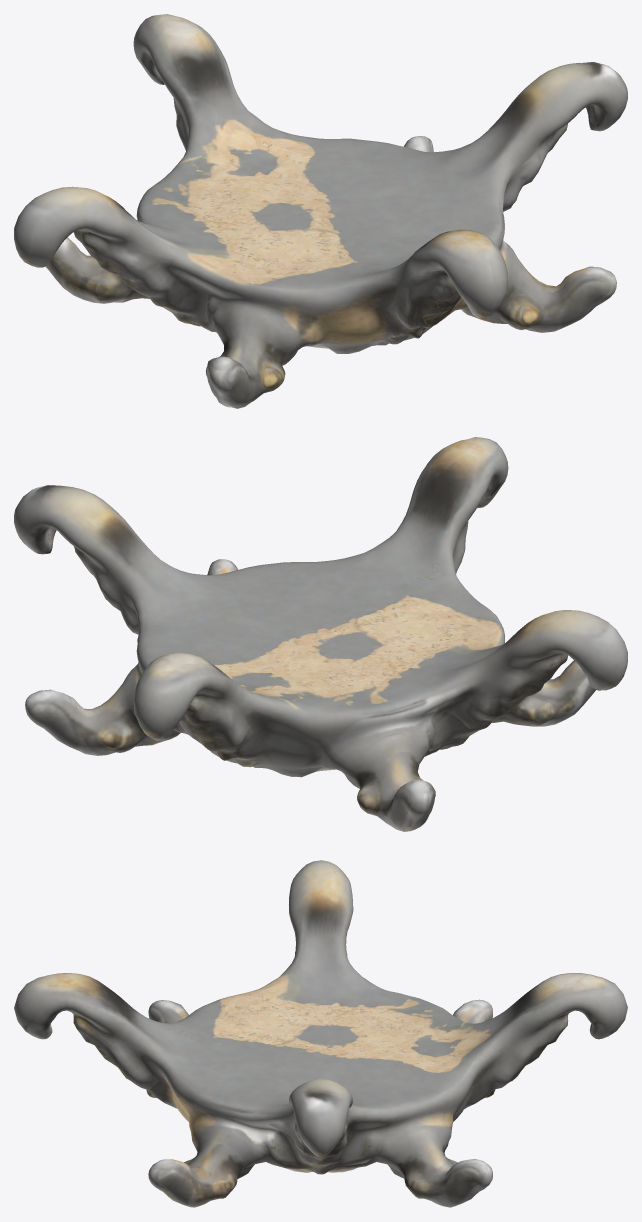
File: _a_3D_render_spherica_0125055040_texture.fbx
The picture shows the model from 3 angles, top to bottom: view 1: azimuth 30°, elevation 25°; view 2: azimuth 150°, elevation 25°; view 3: azimuth 270°, elevation 25°; orthographic projection. The views are drawn at different scales.
Parts seen in each view (by area): view 1: Mesh1_Mesh1.003; view 2: Mesh1_Mesh1.003; view 3: Mesh1_Mesh1.003.
Boxes of the visible parts, x1=… form: Mesh1_Mesh1.003: x1=14, y1=14, x2=627, y2=408; Mesh1_Mesh1.003: x1=14, y1=437, x2=627, y2=831; Mesh1_Mesh1.003: x1=14, y1=860, x2=627, y2=1207.
Size of the model in its own units: 200 by 59.01 by 200.
1 material, 1 textured.
